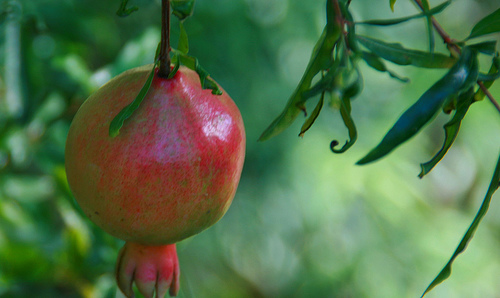pomogranate: (65, 64, 246, 297)
